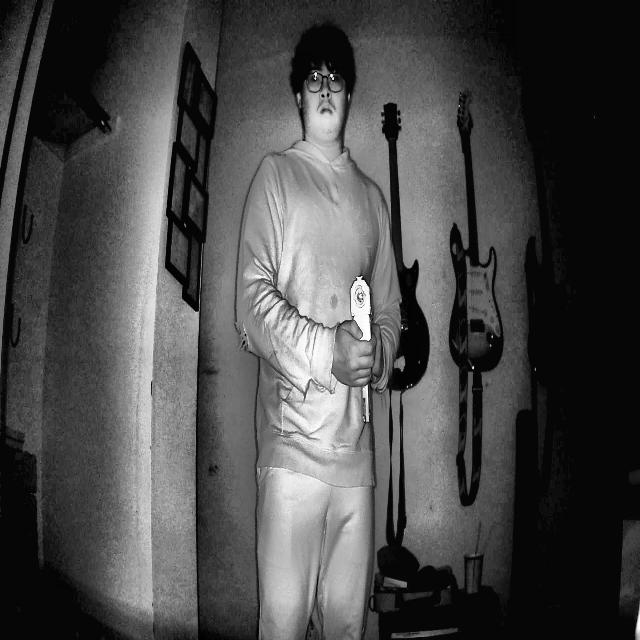Nerf_Blaster: (339, 261, 392, 438)
